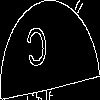C: (25, 25, 49, 77)
